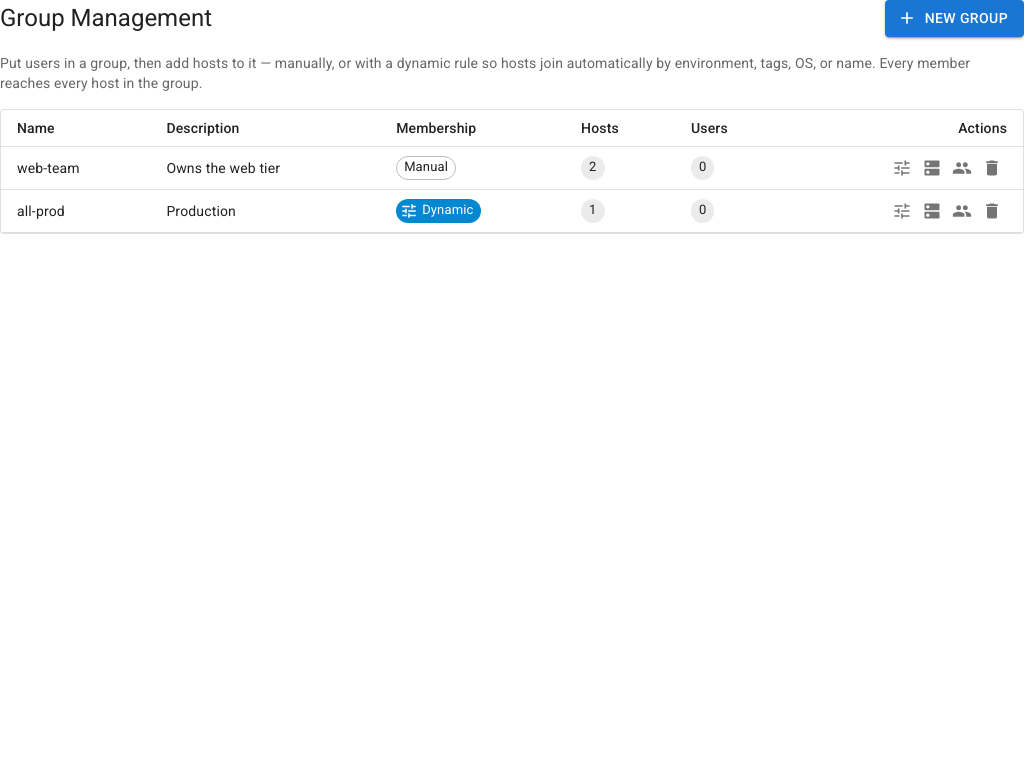
Test: GroupsPage host membership › withholds editing on a rule-managed group
The image size is (1024, 768).
Click the button named "Manage hosts in all-prod": coordinates (932, 210) top-left (917, 196), bottom-right (947, 226)
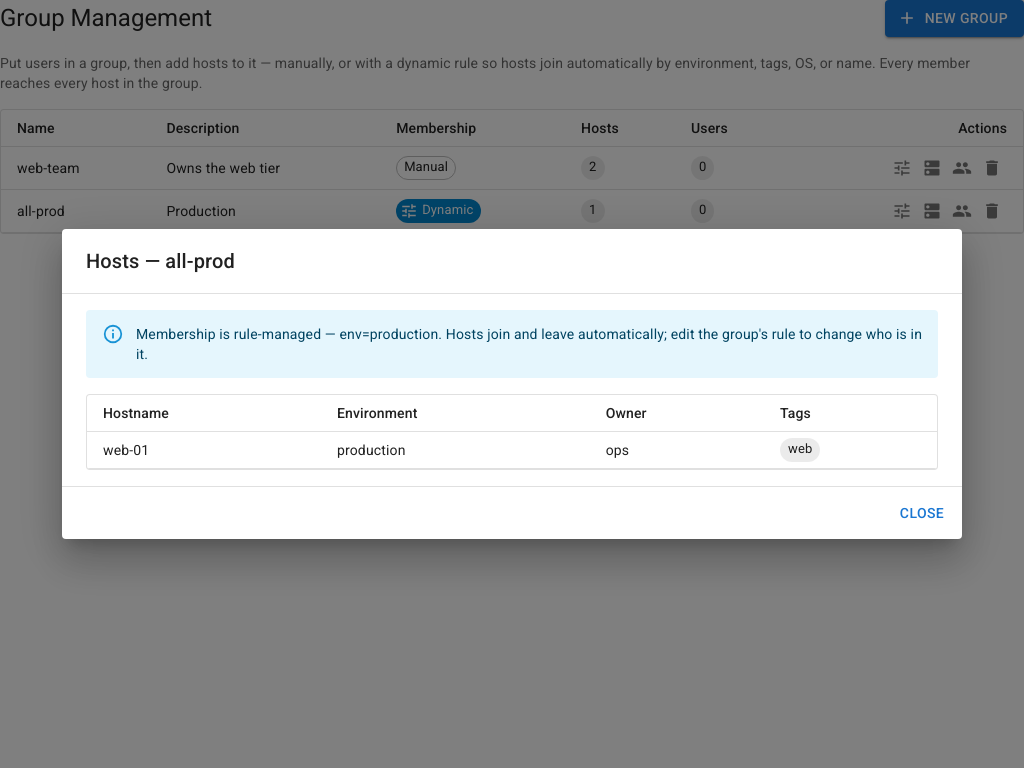
Result: the text "rule-managed" is shown at top-left (136, 326), bottom-right (321, 342)
